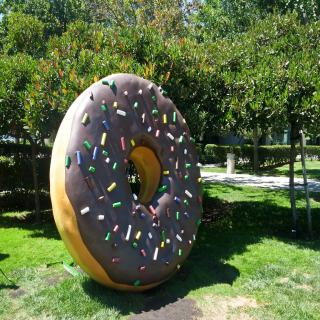Doughnut: (50, 72, 203, 290)
